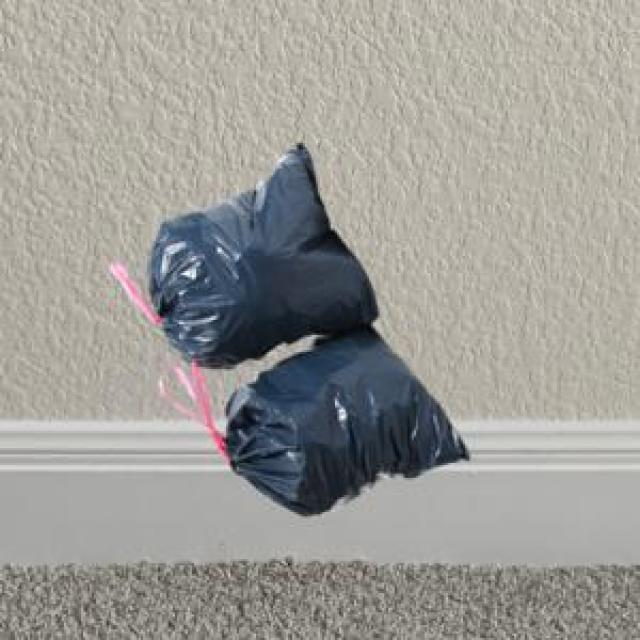miscellaneous trash: (107, 139, 465, 512)
